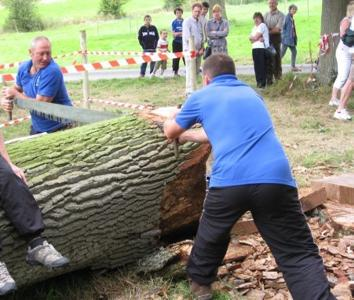person: (164, 54, 336, 300)
